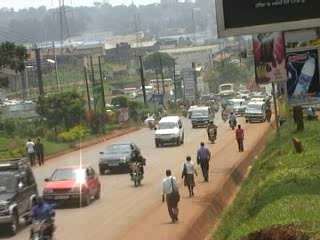Car: (0, 151, 47, 236), (39, 162, 103, 209), (95, 137, 144, 176), (151, 112, 188, 150), (186, 99, 201, 119)
Motorcycle: (22, 197, 63, 239), (126, 150, 148, 189), (203, 119, 220, 144), (226, 109, 241, 132), (142, 112, 158, 131), (219, 104, 228, 123), (179, 100, 189, 117)
